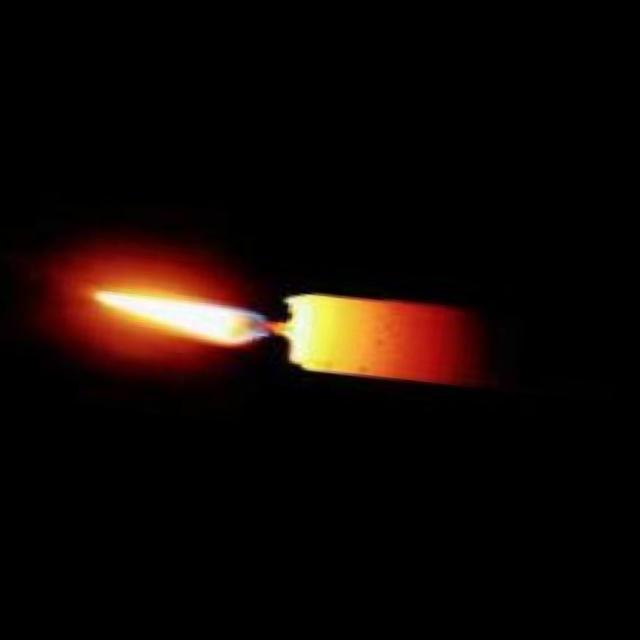Fire: (92, 286, 273, 344)
